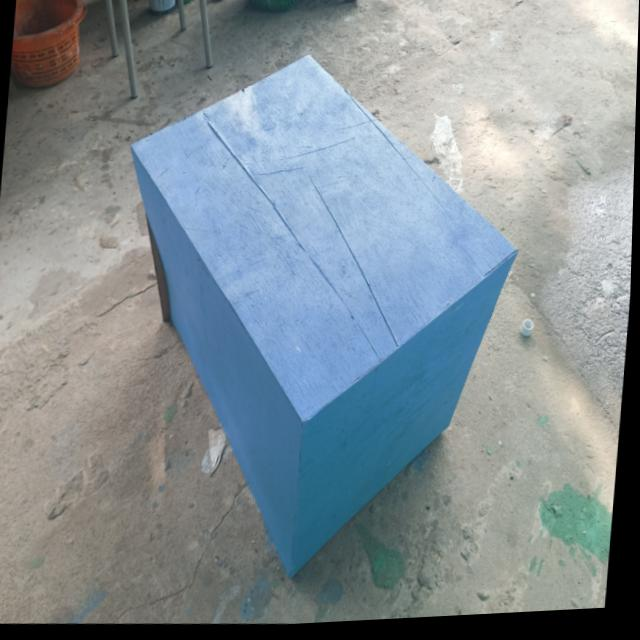blue_box: (97, 34, 534, 589)
